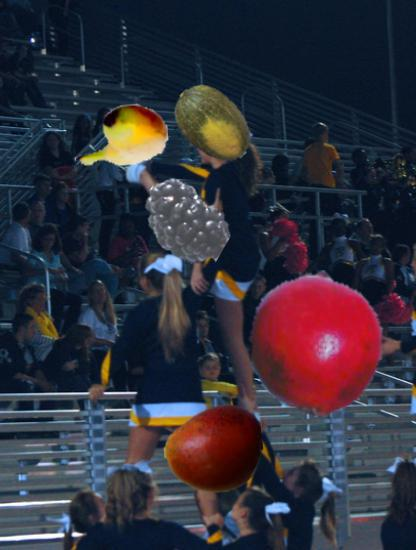Banana: (73, 88, 169, 184)
Mango: (164, 400, 264, 500)
Melon: (166, 83, 254, 171)
Mulberry: (139, 175, 233, 269)
Pomegranate: (241, 270, 389, 418)
